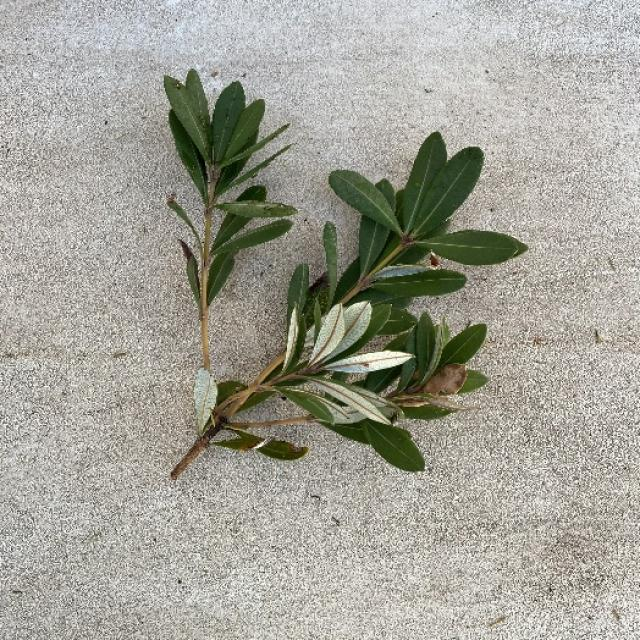organik: (158, 89, 506, 493)
